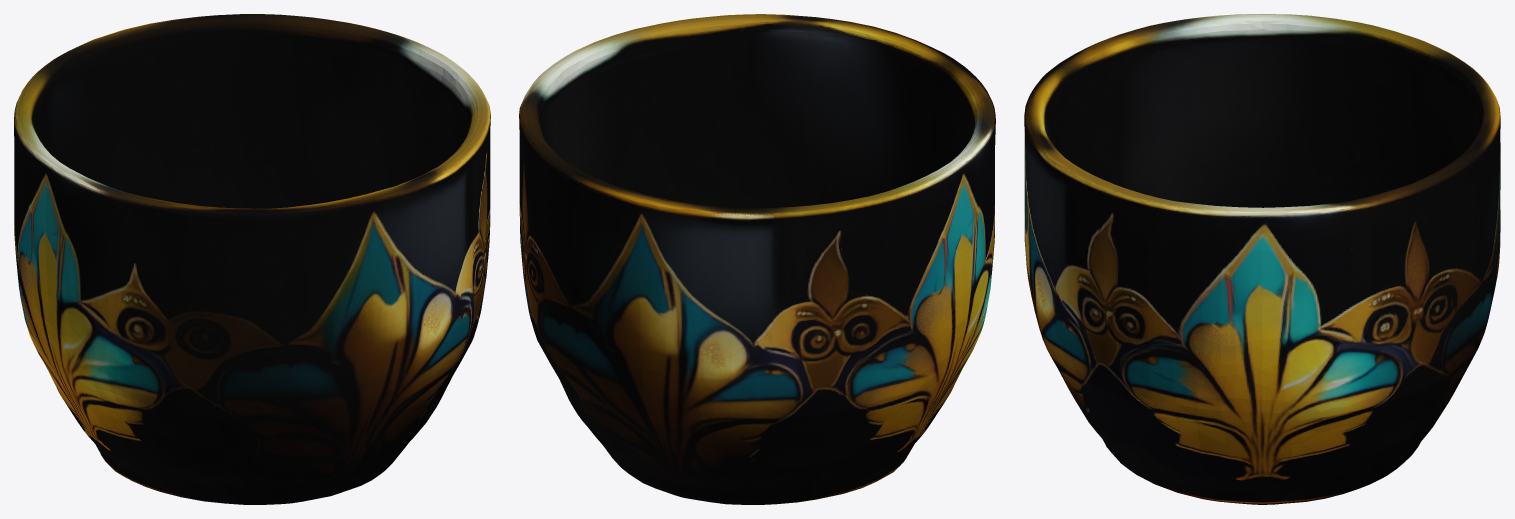
The model's file is ceramic-cup-art-deco.jpeg.glb.
The picture shows the model from 3 angles, left to right: view 1: azimuth 30°, elevation 25°; view 2: azimuth 150°, elevation 25°; view 3: azimuth 270°, elevation 25°; orthographic projection.
Parts seen in each view (by area): view 1: world; view 2: world; view 3: world.
Part boxes in pixels (x1=…): world: x1=14, y1=14, x2=490, y2=504; world: x1=519, y1=14, x2=995, y2=504; world: x1=1024, y1=14, x2=1500, y2=504.
Bounding box in the file's own units: 0.9981 × 0.7656 × 0.9998.
Materials: 1 (1 with a texture image).
